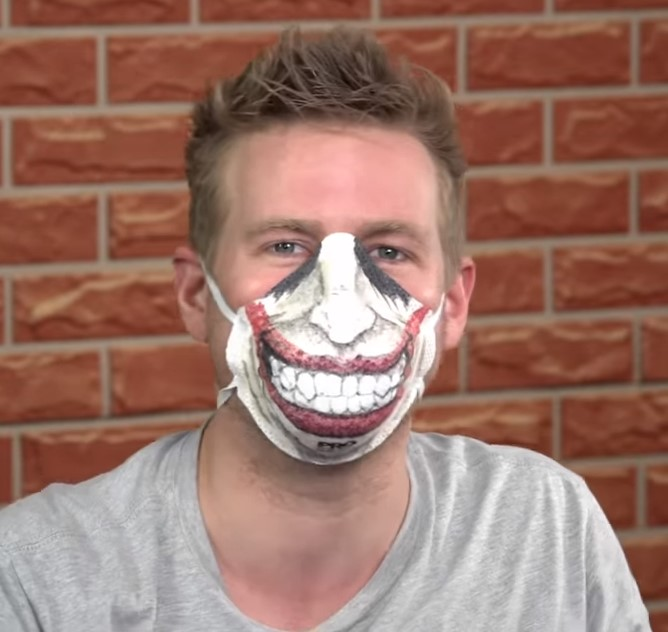face_with_mask: (167, 54, 479, 479)
